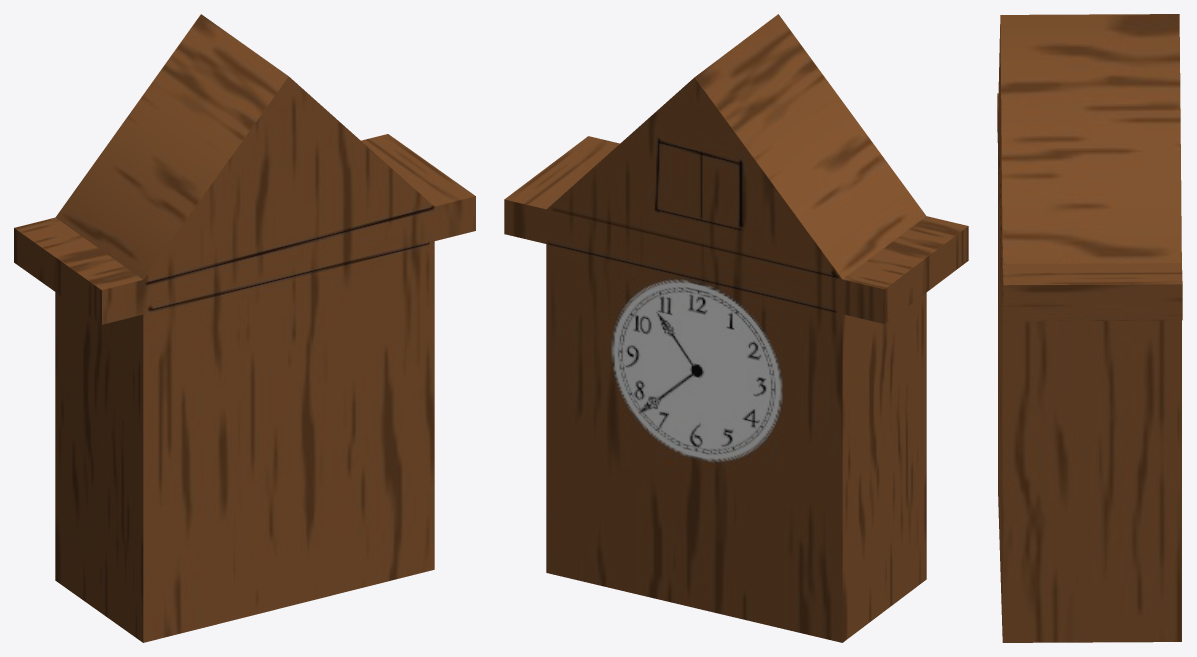
The model's file is cococlock_naughty_2.FBX.
3 renders of one model, left to right at view 1: azimuth 30°, elevation 25°; view 2: azimuth 150°, elevation 25°; view 3: azimuth 270°, elevation 25°, orthographic. The views are drawn at different scales.
Parts seen in each view (by area): view 1: coocooclock_naughty_02; view 2: coocooclock_naughty_02; view 3: coocooclock_naughty_02.
Boxes of the visible parts, x1,y1,x2,y2 form: coocooclock_naughty_02: (14, 14, 475, 642); coocooclock_naughty_02: (504, 14, 968, 642); coocooclock_naughty_02: (997, 14, 1182, 642).
Bounding box in the file's own units: 22.13 × 8.97 × 29.58.
